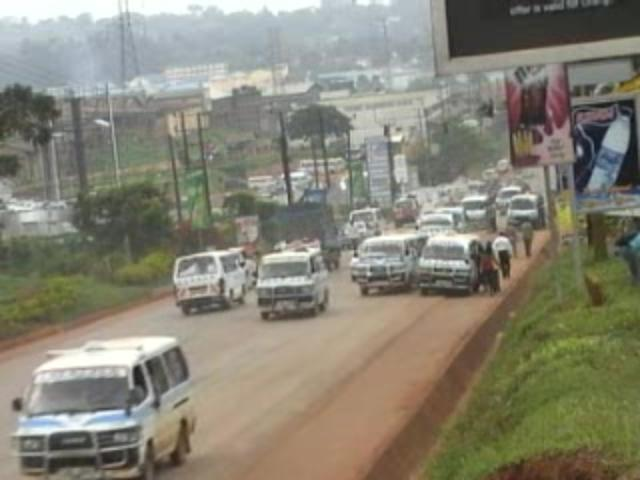van: (6, 334, 195, 478), (256, 247, 326, 319), (170, 248, 246, 312), (418, 233, 476, 295), (354, 233, 407, 290), (505, 192, 545, 232), (460, 194, 495, 231), (417, 212, 456, 235)
